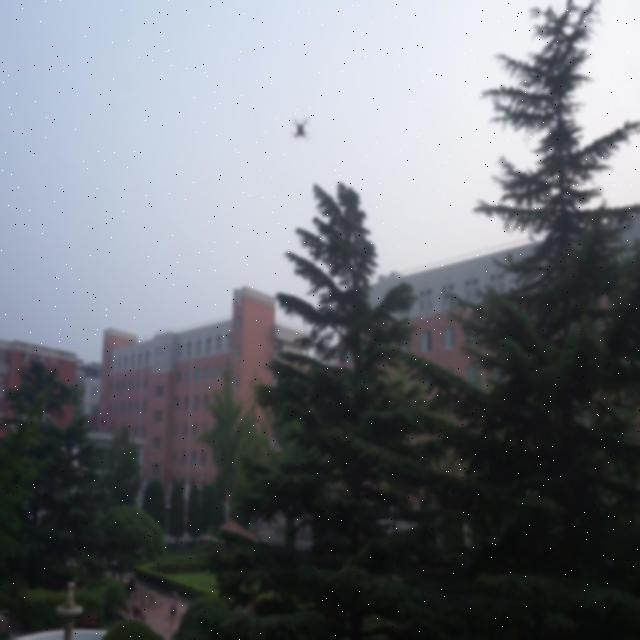UAV: (290, 116, 310, 141)
